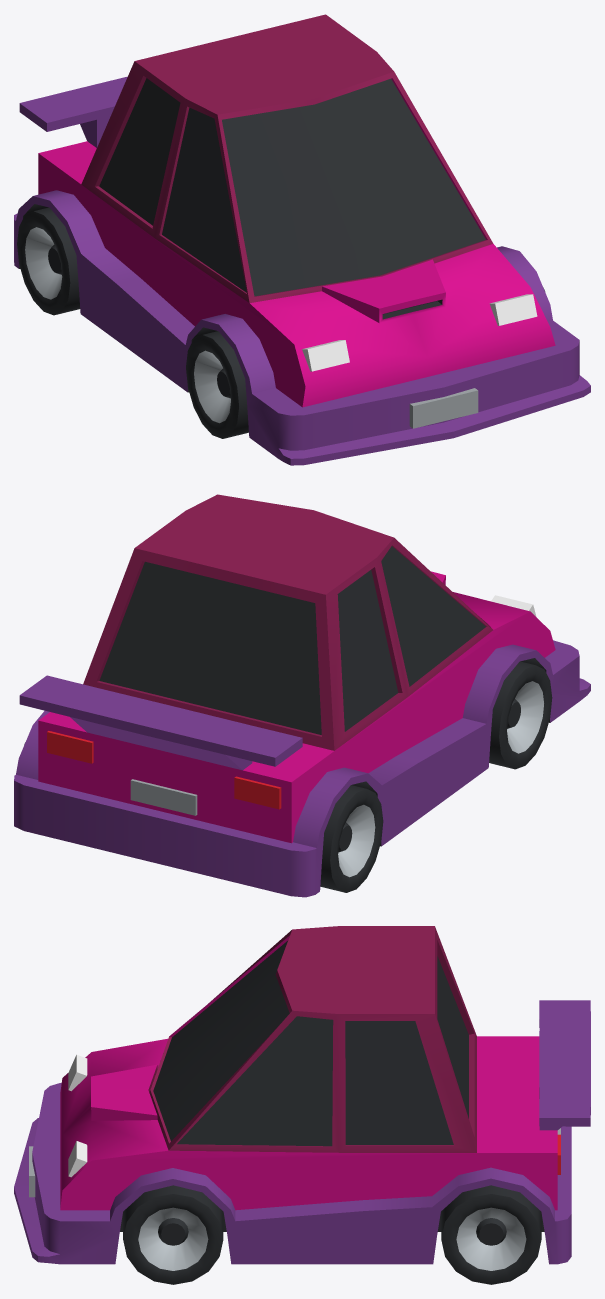
The model's file is Race Royale.fbx_Car11.fbx.
3 renders of one model, top to bottom at view 1: azimuth 30°, elevation 25°; view 2: azimuth 150°, elevation 25°; view 3: azimuth 270°, elevation 25°, orthographic. The views are drawn at different scales.
Visible parts, largest first — view 1: Car4.001, Car11Wheel4, Car11Wheel2; view 2: Car4.001, Car11Wheel2, Car11Wheel4; view 3: Car4.001, Car11Wheel3, Car11Wheel1.
Boxes of the visible parts, left/top/right/bottom form: Car4.001: left=14, top=14, right=590, bottom=465; Car11Wheel4: left=17, top=207, right=80, bottom=315; Car11Wheel2: left=186, top=331, right=248, bottom=438; Car4.001: left=14, top=494, right=590, bottom=897; Car11Wheel2: left=489, top=661, right=552, bottom=769; Car11Wheel4: left=320, top=785, right=383, bottom=892; Car4.001: left=14, top=926, right=590, bottom=1264; Car11Wheel3: left=441, top=1185, right=541, bottom=1284; Car11Wheel1: left=123, top=1185, right=223, bottom=1284.
Size of the model in its own units: 299 by 232 by 501.
